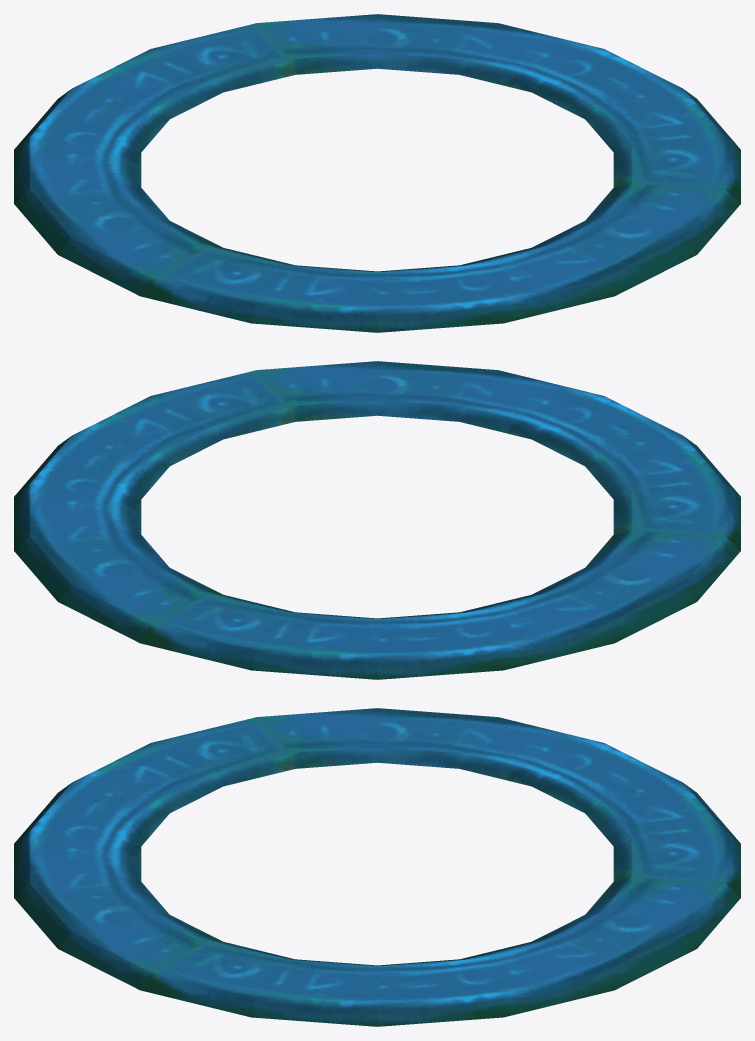
The model's file is cs_xinzhucheng_xuanzhuanpingtai_002.FBX.
The picture shows the model from 3 angles, top to bottom: view 1: azimuth 30°, elevation 25°; view 2: azimuth 150°, elevation 25°; view 3: azimuth 270°, elevation 25°; orthographic projection.
Visible parts, largest first — view 1: cs_xinzhucheng_xuanzhuanpingtai_002; view 2: cs_xinzhucheng_xuanzhuanpingtai_002; view 3: cs_xinzhucheng_xuanzhuanpingtai_002.
Part boxes in pixels (x1,y1,x2,y2): cs_xinzhucheng_xuanzhuanpingtai_002: [14, 14, 740, 332]; cs_xinzhucheng_xuanzhuanpingtai_002: [14, 361, 740, 679]; cs_xinzhucheng_xuanzhuanpingtai_002: [14, 708, 740, 1026].
Bounding box in the file's own units: 64.85 × 1.31 × 63.86.
